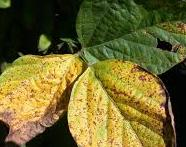Tomato Septoria leaf spot: (69, 61, 186, 147), (75, 0, 186, 80), (0, 49, 85, 147)
